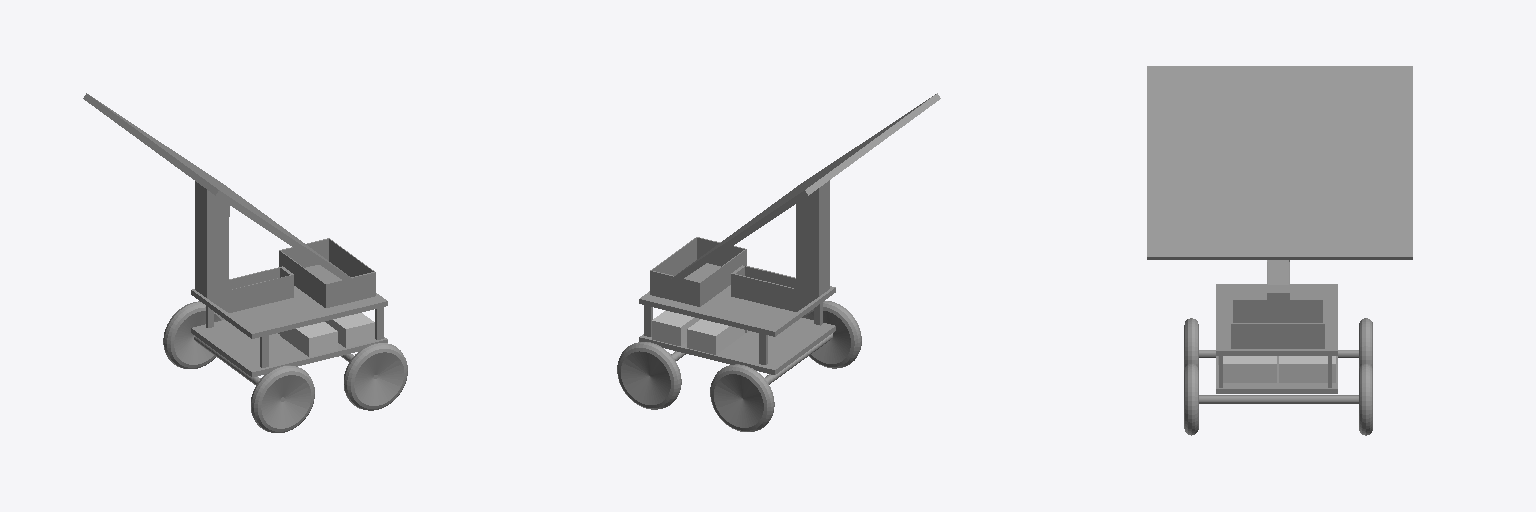
Rendered from vehicleChassis.obj.
3 views of the same model, side by side, from view 1: azimuth 30°, elevation 25°; view 2: azimuth 150°, elevation 25°; view 3: azimuth 270°, elevation 25° (orthographic).
Visible parts, largest first — view 1: Wheels_Torus, panelMount_Cube.011, MPU_Housing_Cube.009, Chassis.001_Cube.003, Chassis_Cube.002, Panel_Cube.012, Battery_Cube.004, Battery.003_Cube.007, Pillar_Cube.008; view 2: Wheels_Torus, panelMount_Cube.011, MPU_Housing_Cube.009, Chassis.001_Cube.003, Chassis_Cube.002, Panel_Cube.012, Battery.001_Cube.005, Battery.002_Cube.006, Pillar_Cube.008; view 3: Panel_Cube.012, MPU_Housing_Cube.009, Chassis.001_Cube.003, Wheels_Torus, Axle_Cylinder, Chassis_Cube.002, Battery.003_Cube.007, Battery.002_Cube.006, panelMount_Cube.011.
Boxes of the visible parts, <box> form: Wheels_Torus: <box>163,301,407,432</box>; panelMount_Cube.011: <box>195,181,293,312</box>; MPU_Housing_Cube.009: <box>279,238,375,307</box>; Chassis.001_Cube.003: <box>191,286,387,338</box>; Chassis_Cube.002: <box>191,320,387,376</box>; Panel_Cube.012: <box>83,93,355,286</box>; Battery_Cube.004: <box>280,322,337,356</box>; Battery.003_Cube.007: <box>325,313,374,347</box>; Pillar_Cube.008: <box>206,306,383,367</box>; Wheels_Torus: <box>617,301,861,431</box>; panelMount_Cube.011: <box>731,180,829,311</box>; MPU_Housing_Cube.009: <box>650,237,746,306</box>; Chassis.001_Cube.003: <box>639,266,835,336</box>; Chassis_Cube.002: <box>639,318,835,374</box>; Panel_Cube.012: <box>668,93,940,286</box>; Battery.001_Cube.005: <box>687,319,744,354</box>; Battery.002_Cube.006: <box>652,310,699,345</box>; Pillar_Cube.008: <box>644,302,822,364</box>; Panel_Cube.012: <box>1147,66,1412,259</box>; MPU_Housing_Cube.009: <box>1231,300,1324,348</box>; Chassis.001_Cube.003: <box>1216,284,1337,355</box>; Wheels_Torus: <box>1184,318,1372,435</box>; Axle_Cylinder: <box>1199,350,1358,403</box>; Chassis_Cube.002: <box>1216,356,1337,393</box>; Battery.003_Cube.007: <box>1223,356,1276,382</box>; Battery.002_Cube.006: <box>1279,356,1335,382</box>; panelMount_Cube.011: <box>1267,260,1289,299</box>.
Bounding box in the file's own units: 8.53 × 10.64 × 9.18.